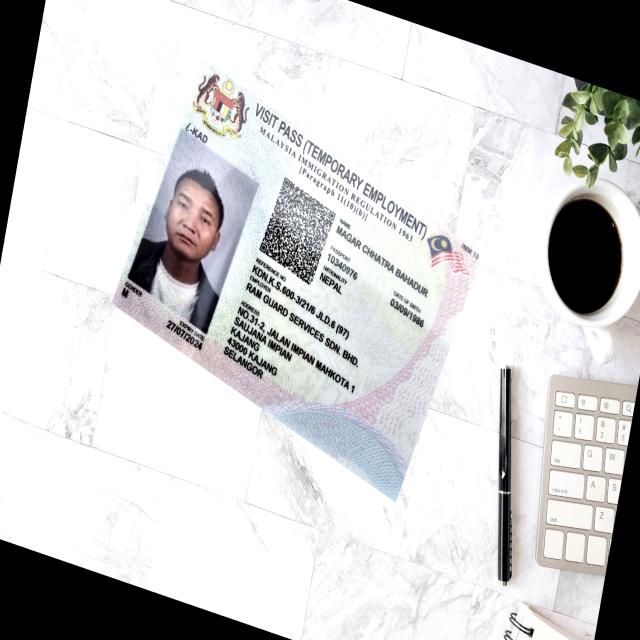ikad-temp: (110, 63, 480, 502)
